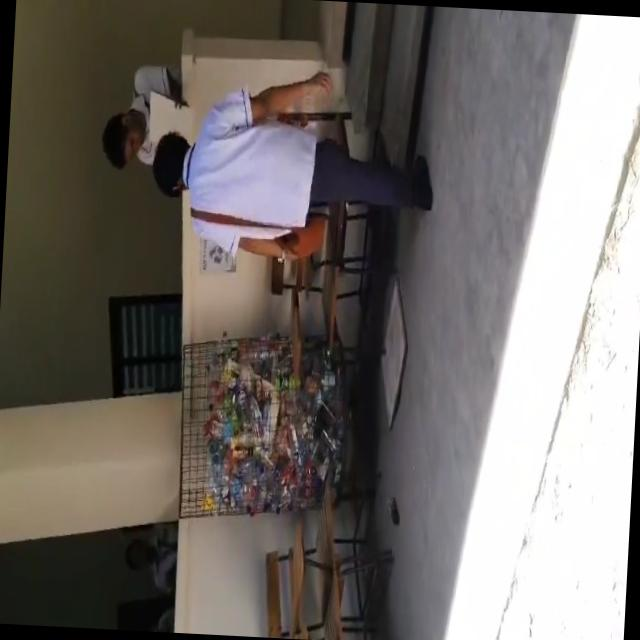Bottle: (387, 496, 400, 526)
